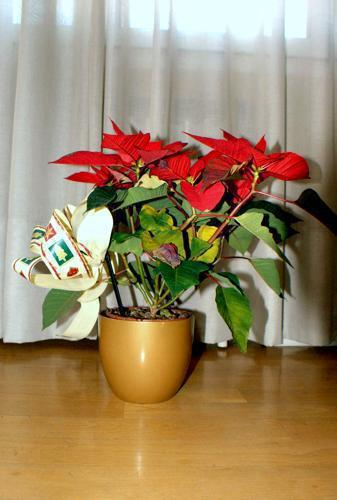Matera: (20, 107, 324, 408)
